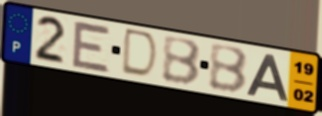2: (34, 15, 69, 68)
A: (244, 52, 290, 104)
B: (208, 44, 250, 96), (161, 36, 203, 88)
D: (119, 27, 161, 81)
E: (70, 19, 113, 76)
